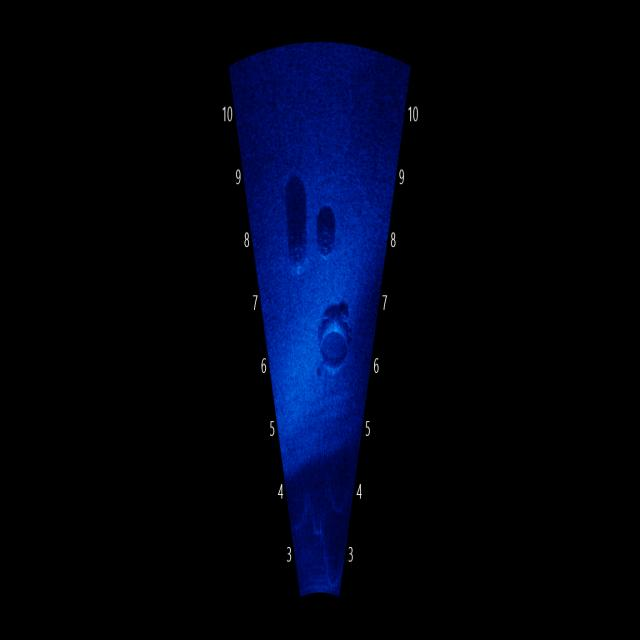circle: (315, 317, 355, 372), (287, 232, 311, 277), (315, 218, 337, 262)
